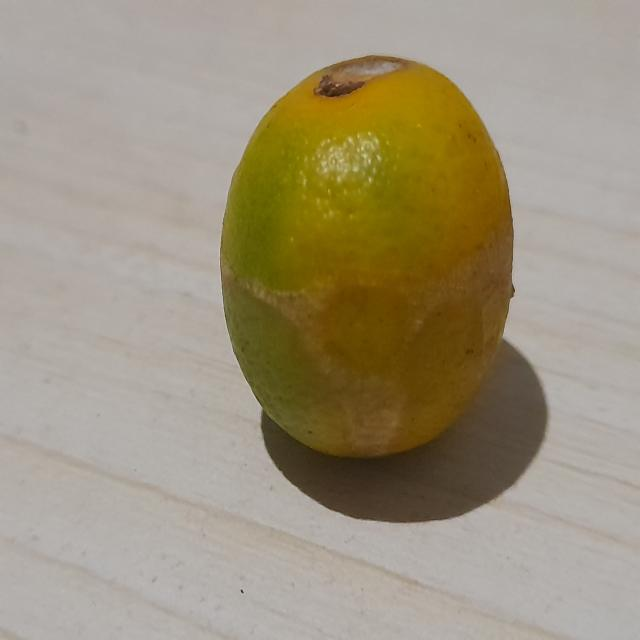greening: (215, 30, 527, 483)
